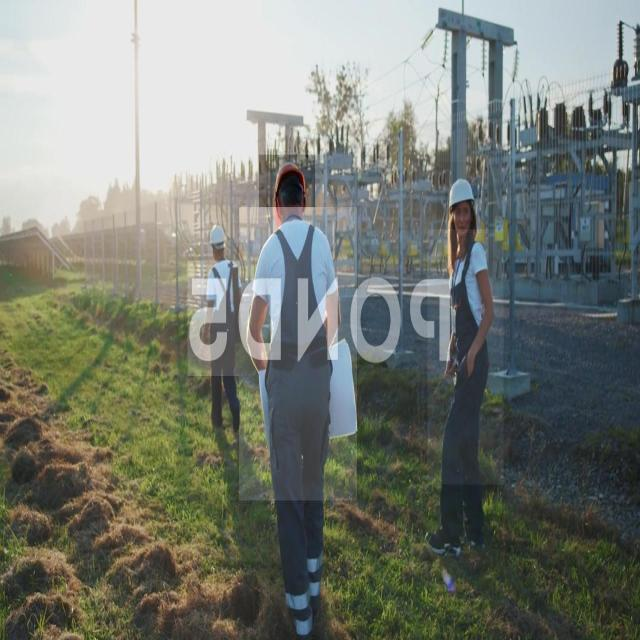Helmet: (239, 208, 357, 501), (428, 230, 503, 484), (188, 261, 256, 377), (259, 155, 315, 247), (437, 162, 487, 265), (200, 211, 226, 273)
